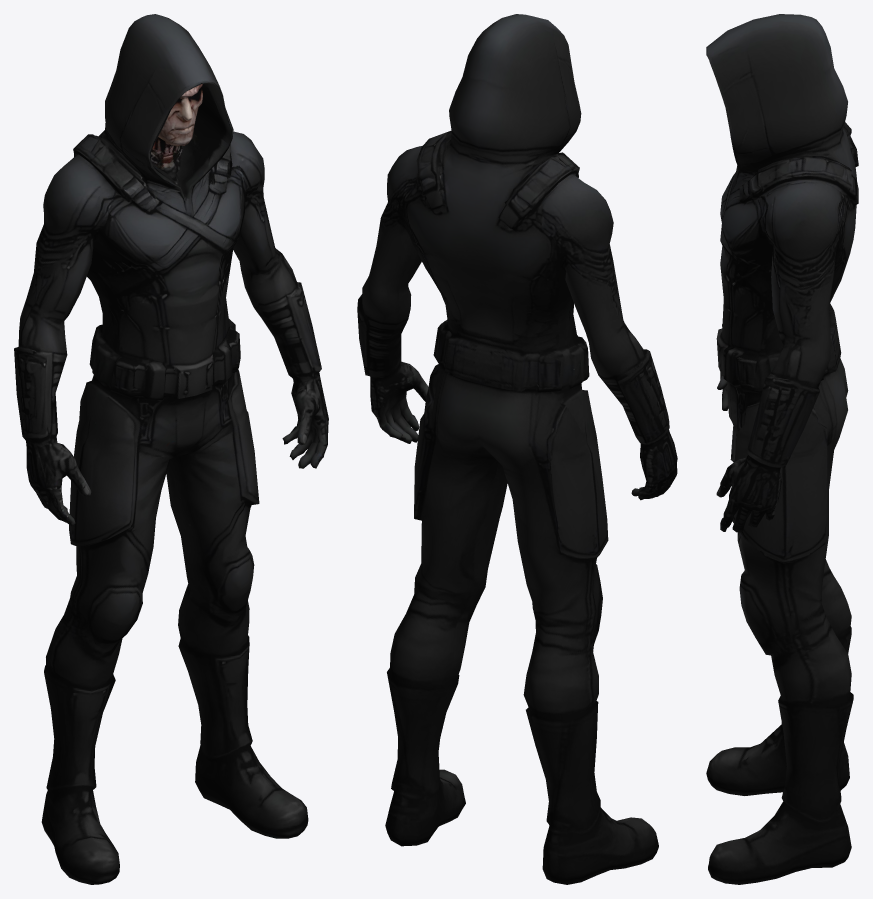
The model's file is 019efafe-f29a-77c5-baaf-48758faaabcb.glb.
3 views of the same model, side by side, from view 1: azimuth 30°, elevation 25°; view 2: azimuth 150°, elevation 25°; view 3: azimuth 270°, elevation 25° (orthographic). The views are drawn at different scales.
Parts seen in each view (by area): view 1: tripo_node_a52de925-ed65-48ed-ad45-68f7d45e26fb; view 2: tripo_node_a52de925-ed65-48ed-ad45-68f7d45e26fb; view 3: tripo_node_a52de925-ed65-48ed-ad45-68f7d45e26fb.
Part boxes in pixels (x1,y1,x2,y2): tripo_node_a52de925-ed65-48ed-ad45-68f7d45e26fb: (14, 14, 328, 884); tripo_node_a52de925-ed65-48ed-ad45-68f7d45e26fb: (357, 14, 677, 884); tripo_node_a52de925-ed65-48ed-ad45-68f7d45e26fb: (706, 14, 858, 884).
Bounding box in the file's own units: 0.377 × 0.998 × 0.1699.
1 material, 1 textured.
